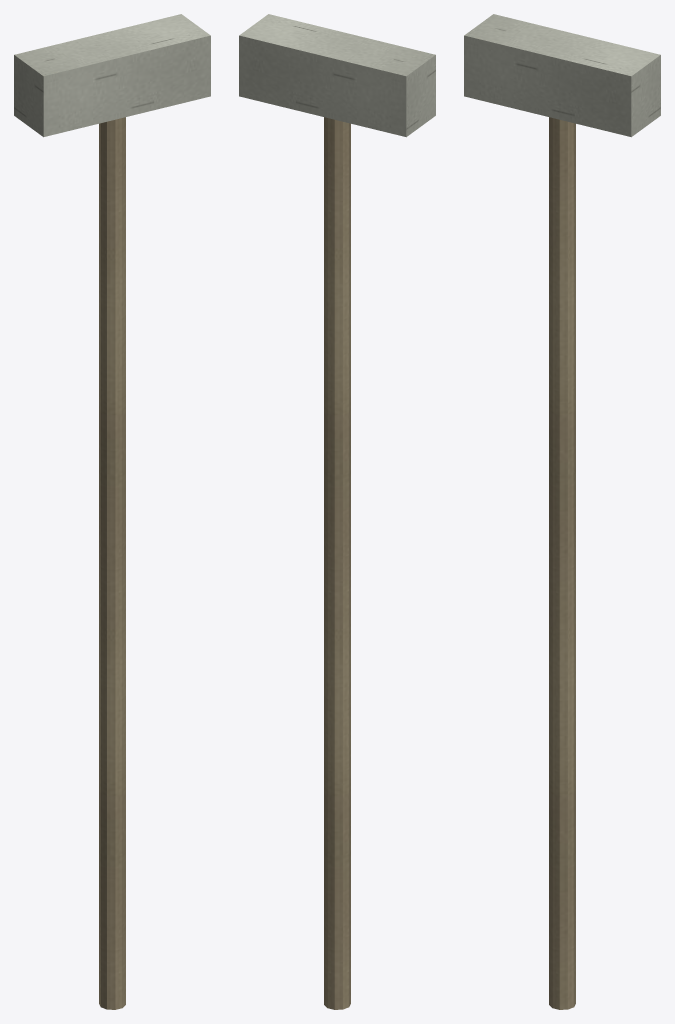
Rendered from mop_v3.glb.
3 renders of one model, left to right at view 1: azimuth 30°, elevation 25°; view 2: azimuth 150°, elevation 25°; view 3: azimuth 330°, elevation 25°, orthographic.
Parts seen in each view (by area): view 1: Variant_mop_3; view 2: Variant_mop_3; view 3: Variant_mop_3.
Boxes of the visible parts, bbox=[...] form: Variant_mop_3: bbox=[14, 14, 210, 1009]; Variant_mop_3: bbox=[239, 14, 435, 1009]; Variant_mop_3: bbox=[464, 14, 660, 1009].
Bounding box in the file's own units: 0.23 × 1.26 × 0.07.
Materials: 2 (2 with a texture image).
